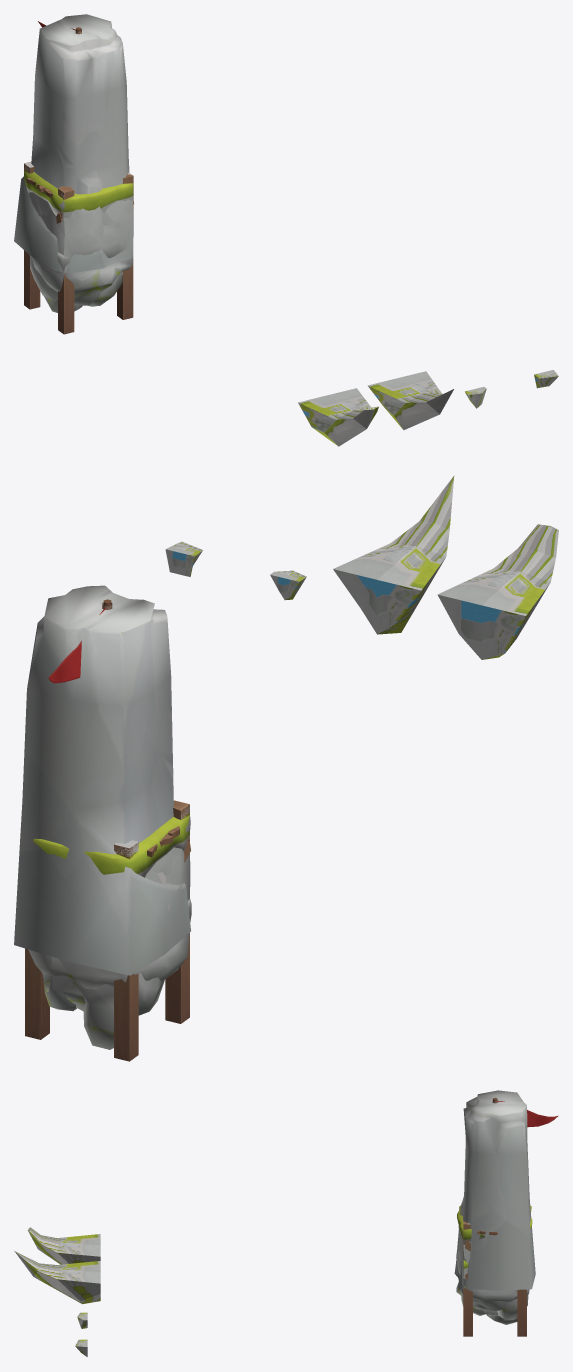
Rendered from fbx_map0.FBX.
3 renders of one model, top to bottom at view 1: azimuth 30°, elevation 25°; view 2: azimuth 150°, elevation 25°; view 3: azimuth 270°, elevation 25°, orthographic. The views are drawn at different scales.
Visible parts, largest first — view 1: map0_st_3, map0_block_3, map0_block_4, map0_ap_1, map0_bridge_wooden_1, map0_b_2, map0_bridge_rock_2, map0_b_3; view 2: map0_st_3, map0_block_4, map0_block_3, map0_bridge_wooden_1, map0_b_3, map0_b_2, map0_bridge_rock_2, map0_block_1, map0_flag, map0_block_2; view 3: map0_st_3, map0_block_3, map0_block_4, map0_b_3, map0_b_2, map0_bridge_wooden_2, map0_bridge_wooden_1.
Part boxes in pixels (<box>): map0_st_3: <box>14,14,131,273</box>; map0_block_3: <box>367,371,453,429</box>; map0_block_4: <box>298,388,378,446</box>; map0_ap_1: <box>64,199,133,272</box>; map0_bridge_wooden_1: <box>24,162,133,334</box>; map0_b_2: <box>30,255,133,305</box>; map0_bridge_rock_2: <box>24,171,133,217</box>; map0_b_3: <box>30,256,122,312</box>; map0_st_3: <box>14,585,190,975</box>; map0_block_4: <box>437,524,558,659</box>; map0_block_3: <box>333,475,454,634</box>; map0_bridge_wooden_1: <box>25,804,190,1061</box>; map0_b_3: <box>43,973,164,1049</box>; map0_b_2: <box>28,933,189,1011</box>; map0_bridge_rock_2: <box>33,815,189,877</box>; map0_block_1: <box>165,541,202,576</box>; map0_flag: <box>48,608,105,683</box>; map0_block_2: <box>270,570,306,600</box>; map0_st_3: <box>454,1090,535,1290</box>; map0_block_3: <box>14,1251,100,1304</box>; map0_block_4: <box>27,1227,100,1264</box>; map0_b_3: <box>461,1294,528,1324</box>; map0_b_2: <box>456,1281,529,1315</box>; map0_bridge_wooden_2: <box>463,1220,526,1336</box>; map0_bridge_wooden_1: <box>463,1231,479,1336</box>.
Bounding box in the file's own units: 375 × 394 × 856.
Materials: 3 (3 with a texture image).
